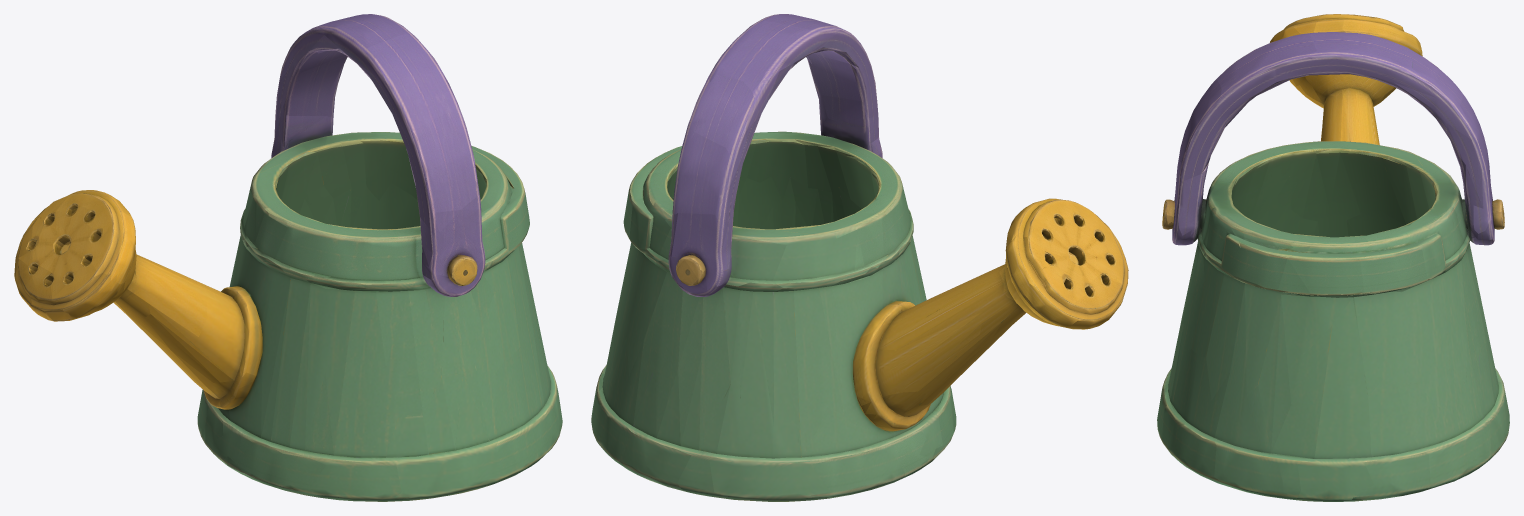
The picture shows the model from 3 angles, left to right: view 1: azimuth 30°, elevation 25°; view 2: azimuth 150°, elevation 25°; view 3: azimuth 270°, elevation 25°; orthographic projection. The views are drawn at different scales.
Parts seen in each view (by area): view 1: island-watering-can-v1-1; view 2: island-watering-can-v1-1; view 3: island-watering-can-v1-1.
Part boxes in pixels (<box>): island-watering-can-v1-1: <box>14,14,562,501</box>; island-watering-can-v1-1: <box>591,14,1128,501</box>; island-watering-can-v1-1: <box>1157,14,1509,501</box>.
Bounding box in the file's own units: 0.7899 × 0.6 × 0.4949.
1 material, 1 textured.
